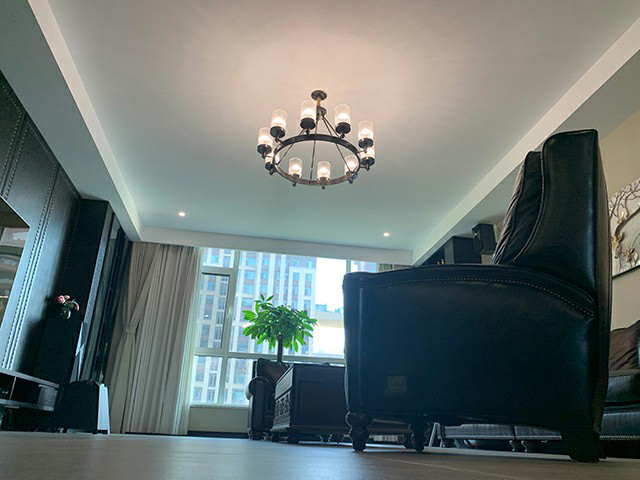curtain: (110, 240, 161, 437), (156, 244, 204, 435)
sofa: (341, 129, 614, 464)
table: (270, 359, 347, 444)
